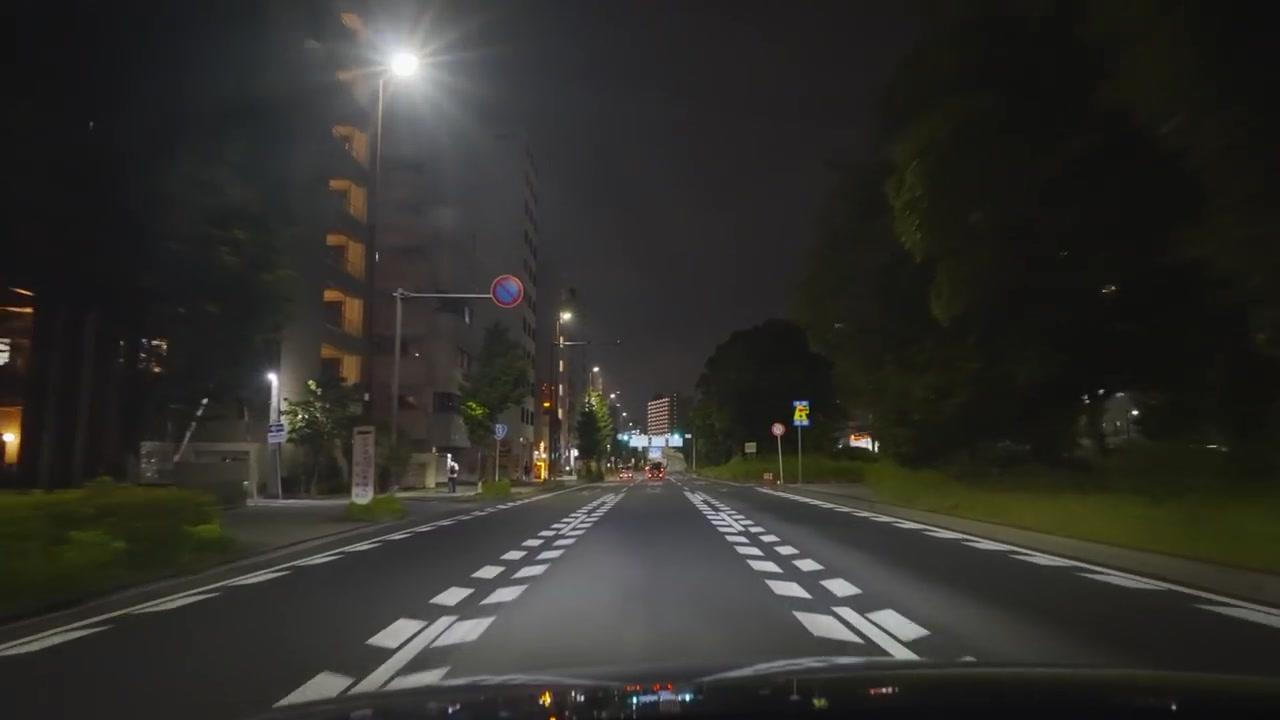car: (618, 469, 635, 482)
person: (446, 455, 459, 494)
stop sign: (771, 422, 786, 437)
traffic light: (489, 274, 525, 308), (540, 383, 554, 413), (791, 402, 810, 424), (771, 422, 786, 437)
